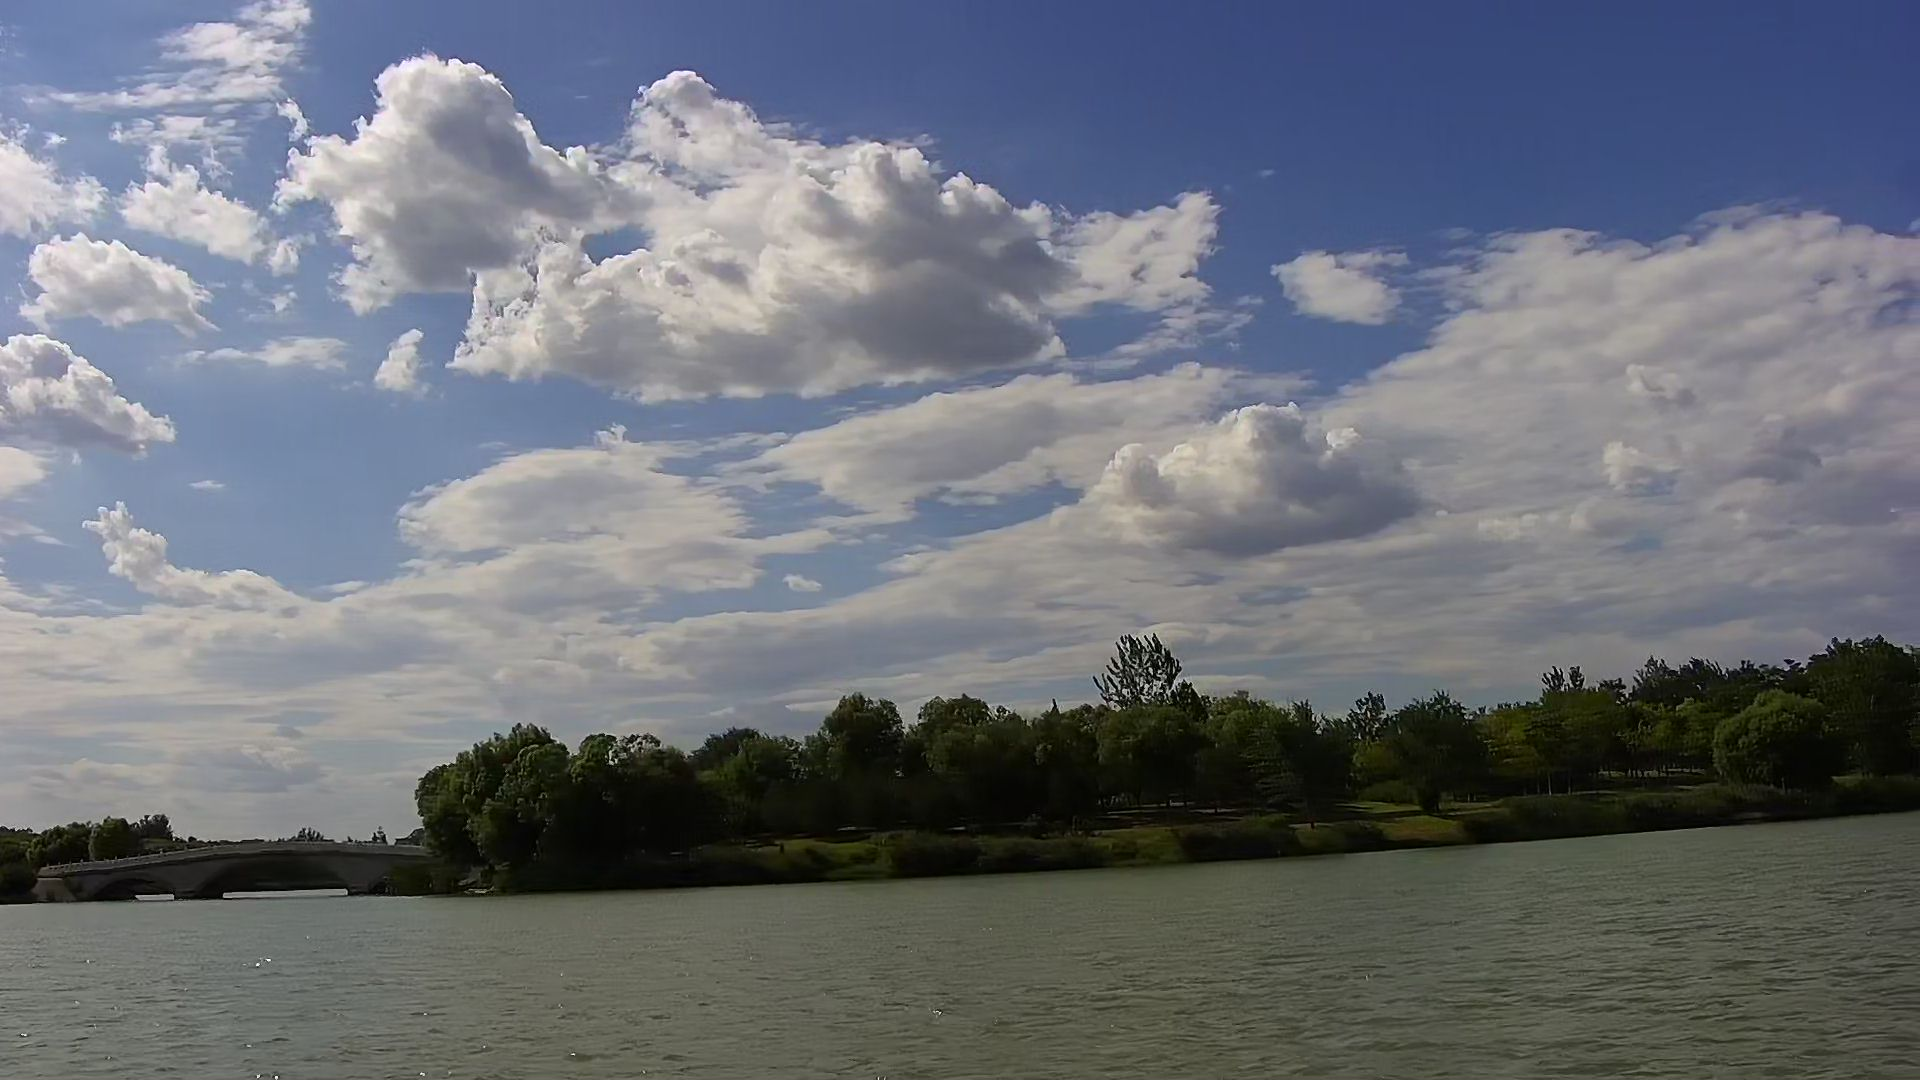bridge: (44, 840, 429, 899)
